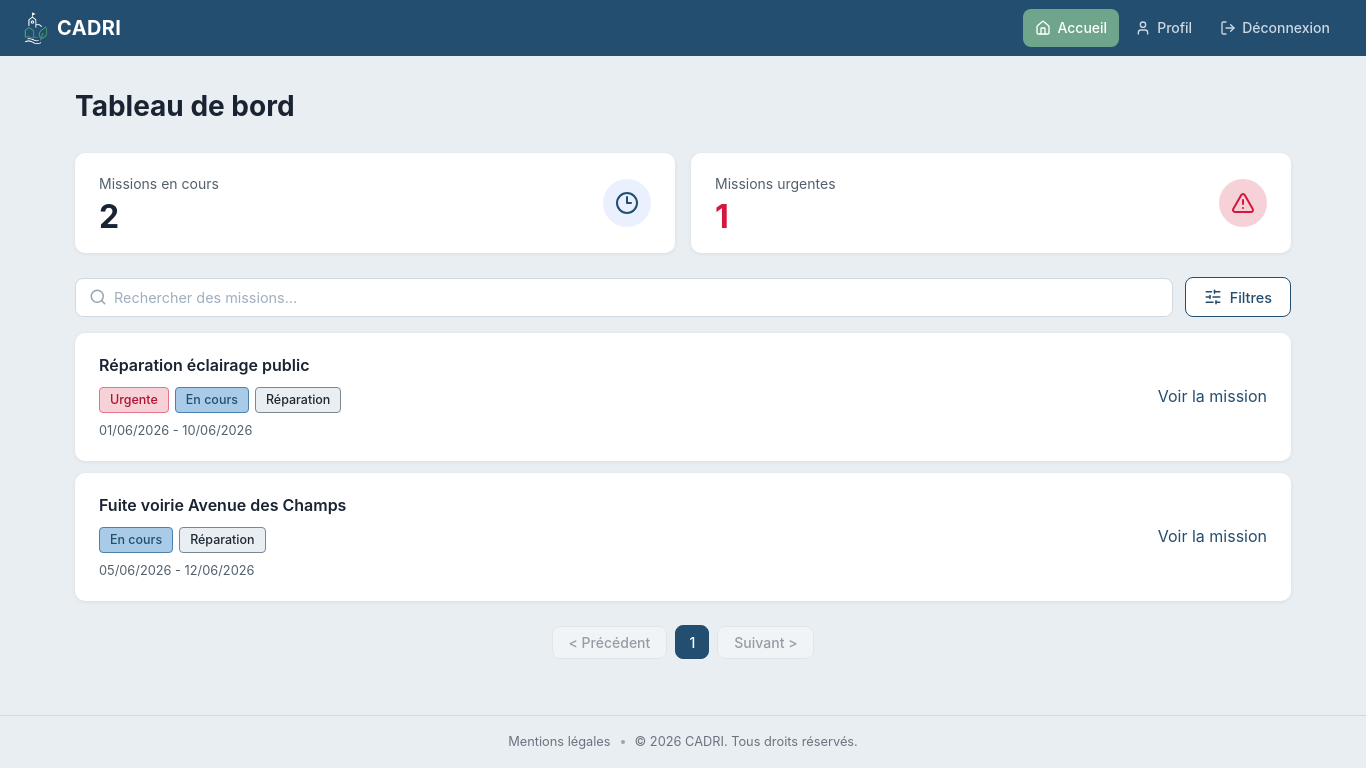
Test: DashboardPage — filtres › cliquer sur le bouton Filtres ouvre le panneau de filtres
Check: the text "Réparation éclairage public" is shown, box [99, 355, 310, 375]
Click the button "Filtres". click: (1238, 297)
box: [1185, 277, 1291, 317]
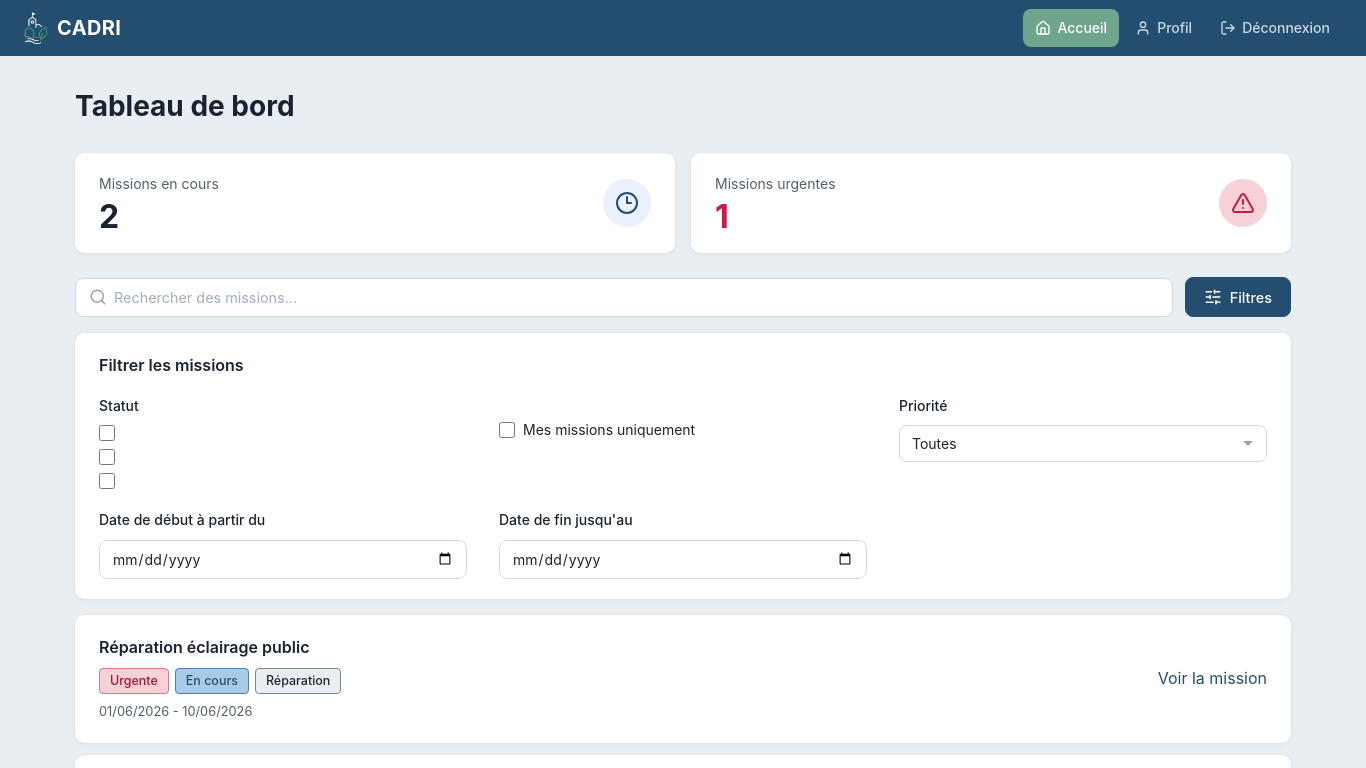
Check: the text "Filtrer les missions" is shown, box [99, 355, 244, 375]
